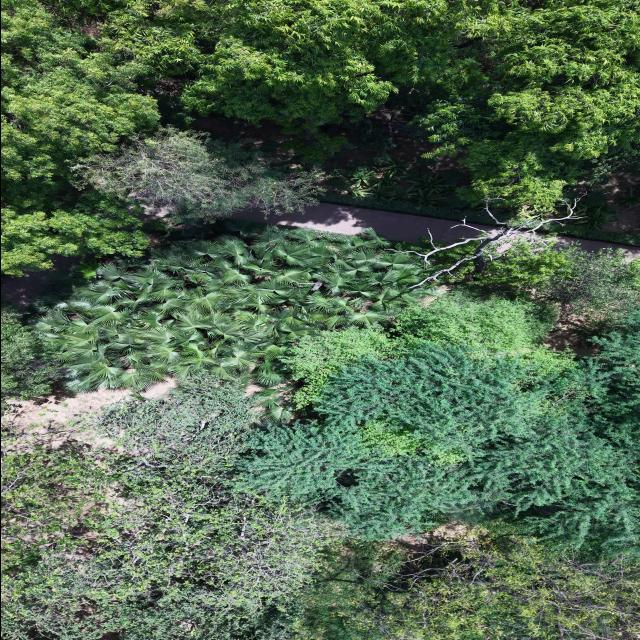DRY_AREA: (234, 202, 476, 242), (235, 202, 475, 241), (2, 388, 131, 433)
PATHWAYS: (234, 202, 475, 242)
VEGETATION_TREE: (1, 0, 639, 639), (3, 249, 638, 639), (2, 0, 639, 273), (83, 0, 638, 216), (235, 298, 637, 552), (3, 378, 341, 639), (2, 1, 323, 274), (236, 291, 575, 538), (35, 225, 433, 390), (3, 446, 338, 639), (236, 342, 543, 538), (408, 1, 639, 209), (102, 0, 474, 124), (1, 1, 158, 273), (301, 534, 639, 639), (278, 290, 572, 408), (2, 2, 158, 179), (70, 129, 324, 221), (94, 375, 256, 474), (469, 244, 639, 318), (1, 191, 148, 274), (390, 289, 557, 353), (278, 326, 389, 408), (527, 246, 639, 319), (339, 153, 451, 205), (321, 191, 494, 224), (1, 300, 59, 397), (474, 244, 571, 284)
